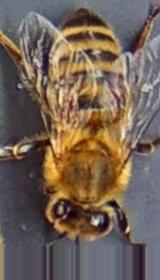varroa_mite: (48, 89, 82, 119)
